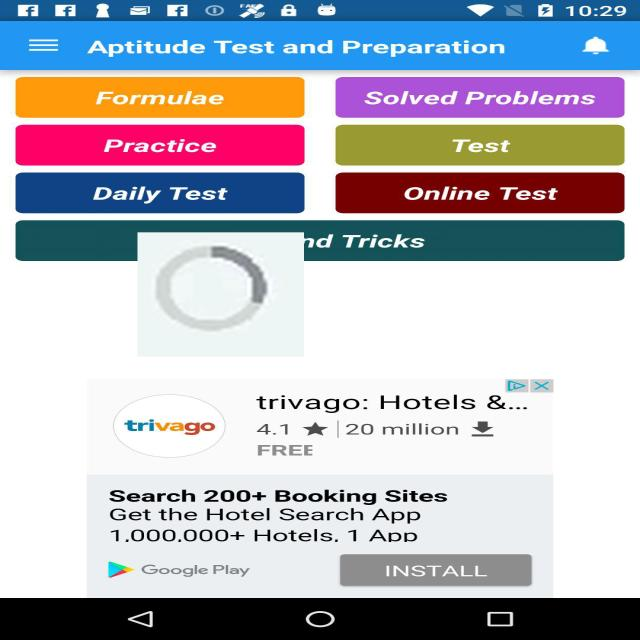misdirection: (137, 232, 304, 357)
